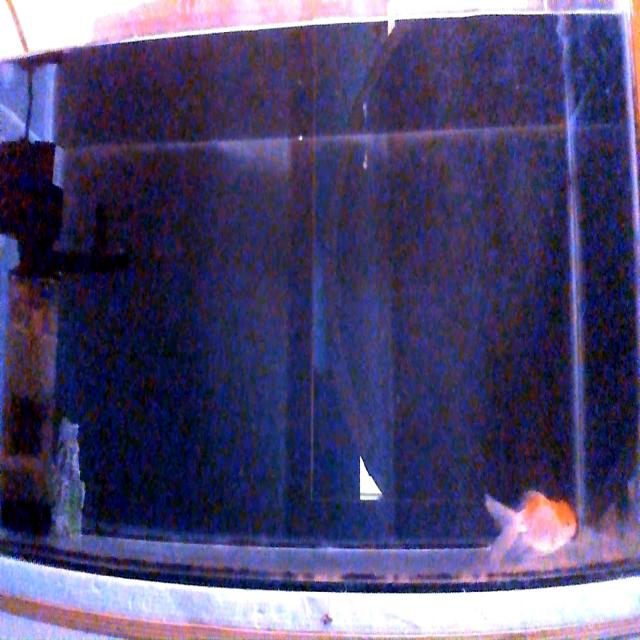fish: (486, 488, 576, 560)
